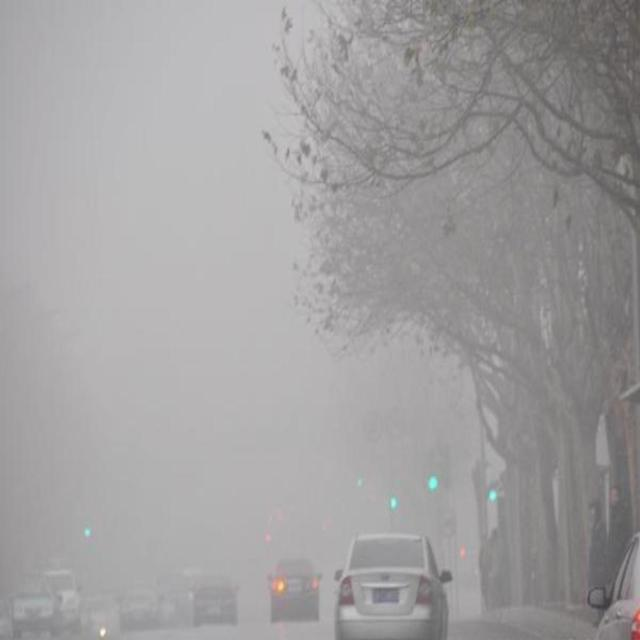Car: (332, 534, 456, 640), (267, 551, 323, 629), (188, 571, 244, 630)
